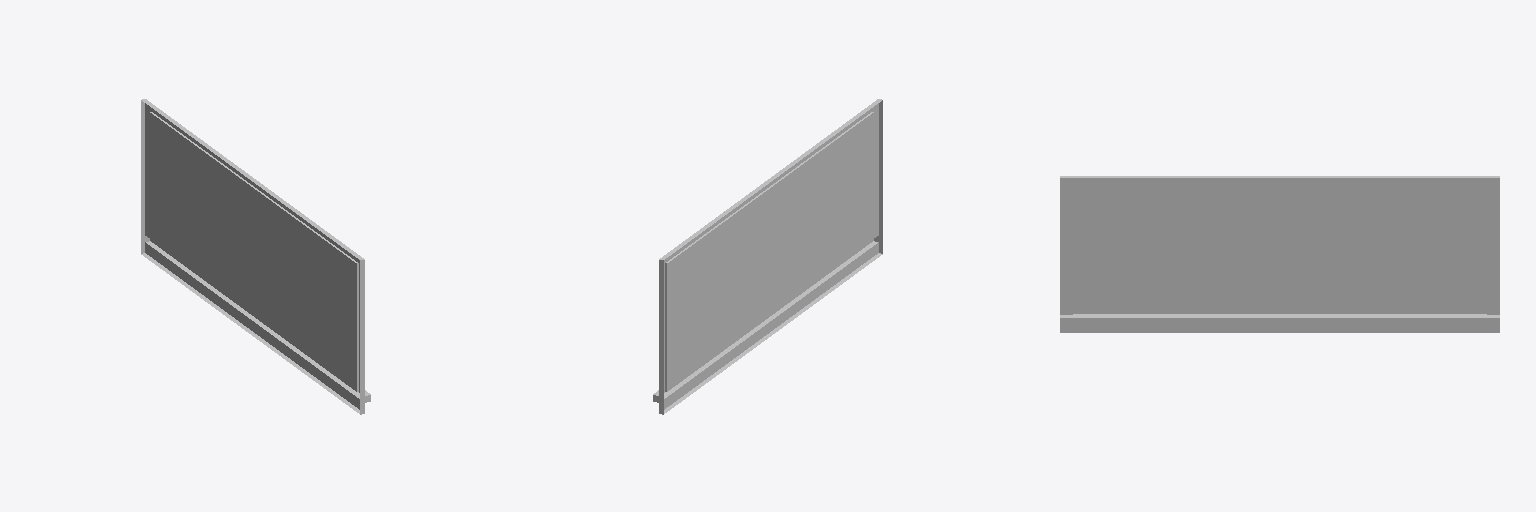
The model's file is chalkboard.obj.
3 renders of one model, left to right at view 1: azimuth 30°, elevation 25°; view 2: azimuth 150°, elevation 25°; view 3: azimuth 270°, elevation 25°, orthographic.
Visible parts, largest first — view 1: Cube_Cube.001; view 2: Cube_Cube.001; view 3: Cube_Cube.001.
Boxes of the visible parts, box(x1,y1,x2,y2) form: Cube_Cube.001: box(141, 99, 370, 414); Cube_Cube.001: box(653, 99, 882, 414); Cube_Cube.001: box(1060, 176, 1499, 332).
Bounding box in the file's own units: 0.4846 × 6.54 × 16.87.